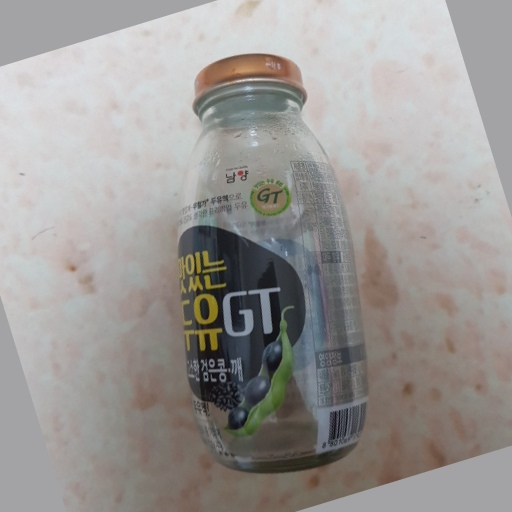Glass_4: (171, 53, 375, 471)
